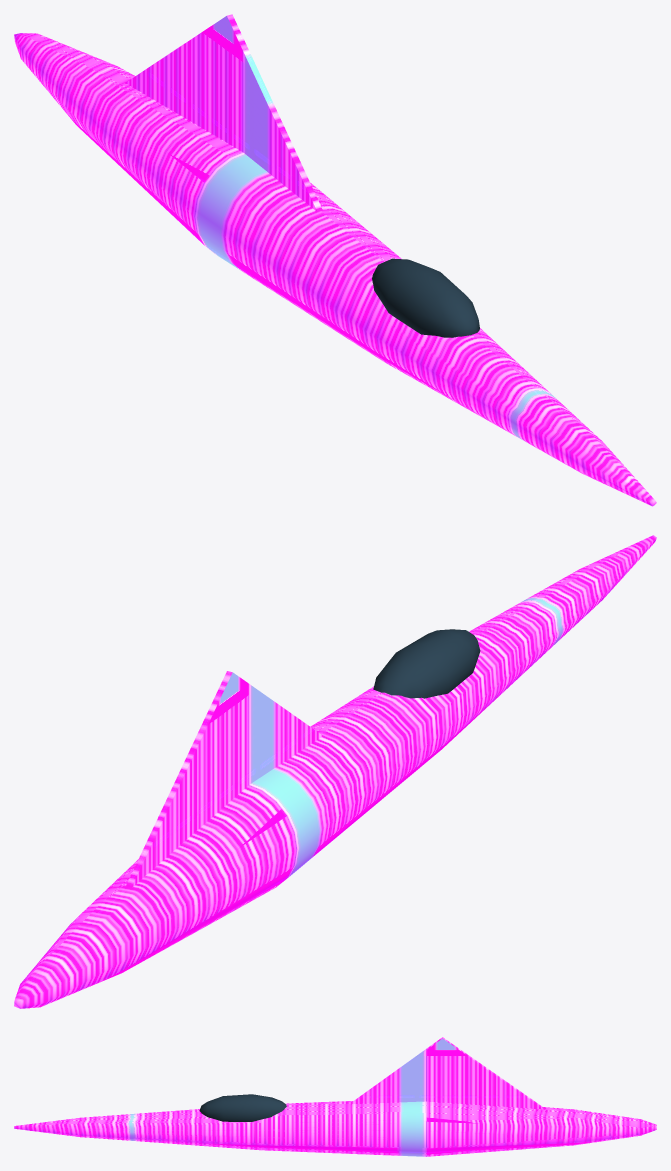
The model's file is HULL.glb.
3 renders of one model, top to bottom at view 1: azimuth 30°, elevation 25°; view 2: azimuth 150°, elevation 25°; view 3: azimuth 270°, elevation 25°, orthographic. The views are drawn at different scales.
Parts seen in each view (by area): view 1: HULL_02_LITE; view 2: HULL_02_LITE; view 3: HULL_02_LITE.
Boxes of the visible parts, x1,y1,x2,y2 form: HULL_02_LITE: (14, 14, 656, 506); HULL_02_LITE: (14, 535, 656, 1008); HULL_02_LITE: (14, 1037, 656, 1156).
Size of the model in its own units: 0.7199 by 1.56 by 7.8.
Materials: 2 (1 with a texture image).
